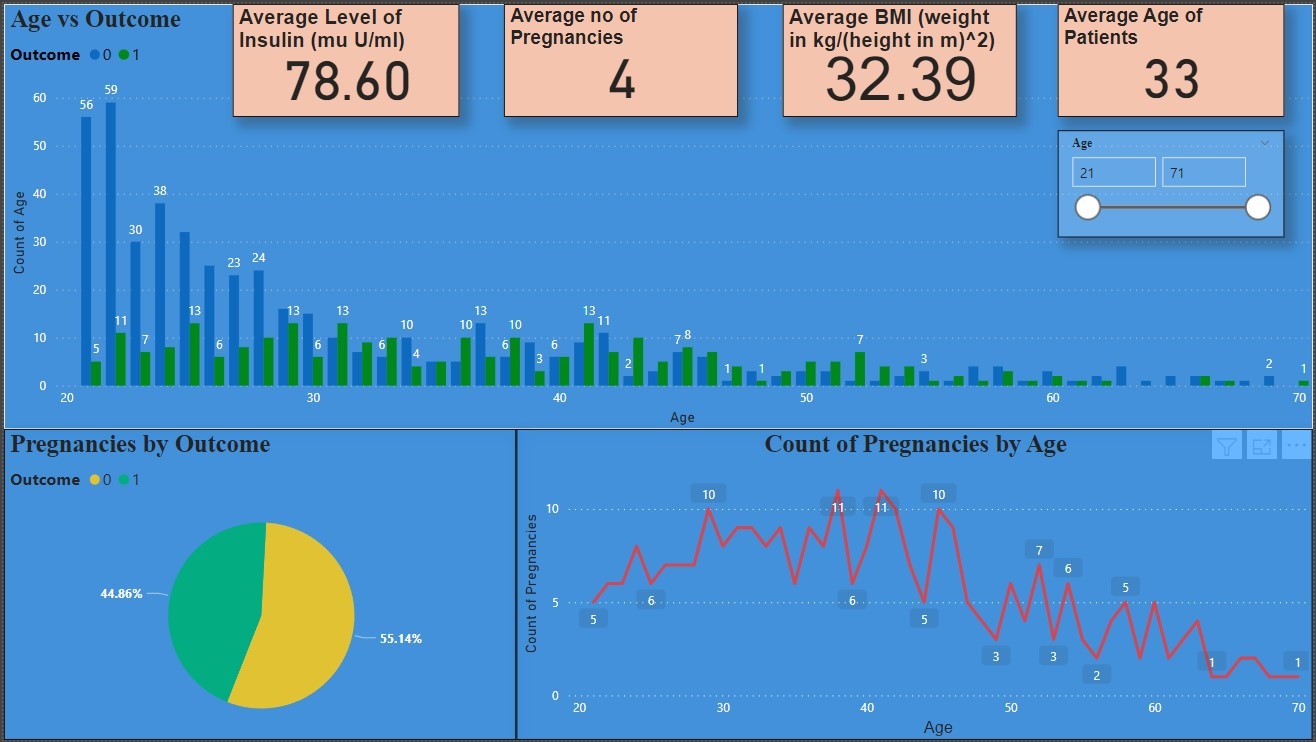

The dashboard page shown, as its layout file describes it:
{"tool":"powerbi","page":{"name":"Page 1","canvas":[1280,720],"ordinal":0},"visuals":[{"type":"clusteredColumnChart","title":"Age vs Outcome","fields":{"Category":["df_pima.Age"],"Series":["df_pima.Outcome"],"Y":["CountNonNull(df_pima.Age)"]},"box":[0,0,1279.9,415.6],"z":0},{"type":"card","title":"Average Age of Patients","fields":{"Values":["Avg(df_pima.Age)"]},"box":[1030.5,0,221.3,110],"z":1000},{"type":"card","title":"Average no of Pregnancies","fields":{"Values":["Avg(df_pima.Pregnancies)"]},"box":[489,0,228.6,110],"z":2000},{"type":"card","title":"Average Level of Insulin (mu U/ml)","fields":{"Values":["Avg(df_pima.Insulin)"]},"box":[223.7,0,221.3,110],"z":3000},{"type":"card","title":"Average BMI (weight in kg/(height in m)^2)","fields":{"Values":["Avg(df_pima.BMI)"]},"box":[761.6,0,228.6,110],"z":4000},{"type":"donutChart","fields":{"Category":["df_pima.Outcome"],"Y":["Sum(df_pima.Pregnancies)"]},"box":[0,415.6,501.2,304.4],"z":5000},{"type":"lineChart","fields":{"Category":["df_pima.Age"],"Y":["Count(df_pima.Pregnancies)"]},"box":[501.2,415.6,778.7,304.4],"z":6000},{"type":"slicer","fields":{"Values":["df_pima.Age"]},"box":[1030.5,123.5,221.3,105.1],"z":7000}]}

Visuals, with their boxes in screenshot pixels (x1, y1, x2, y2), scaled from the page's 1280x720 canvas onto the 1316x742 screenshot:
"Age vs Outcome" clusteredColumnChart: bbox(0, 0, 1315, 428)
"Average Age of Patients" card: bbox(1059, 0, 1287, 113)
"Average no of Pregnancies" card: bbox(503, 0, 738, 113)
"Average Level of Insulin (mu U/ml)" card: bbox(230, 0, 458, 113)
"Average BMI (weight in kg/(height in m)^2)" card: bbox(783, 0, 1018, 113)
donutChart - df_pima.Outcome x Sum(df_pima.Pregnancies): bbox(0, 428, 515, 741)
lineChart - df_pima.Age x Count(df_pima.Pregnancies): bbox(515, 428, 1315, 741)
slicer - df_pima.Age: bbox(1059, 127, 1287, 236)
